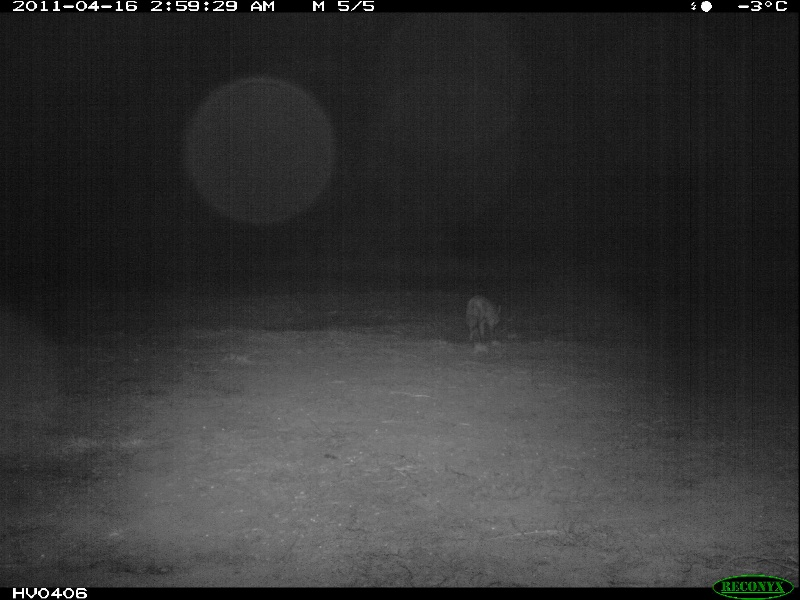fox: (462, 291, 505, 341)
